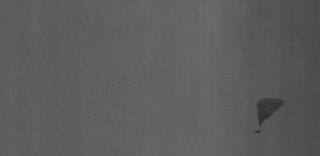oil spot: (251, 92, 287, 136)
